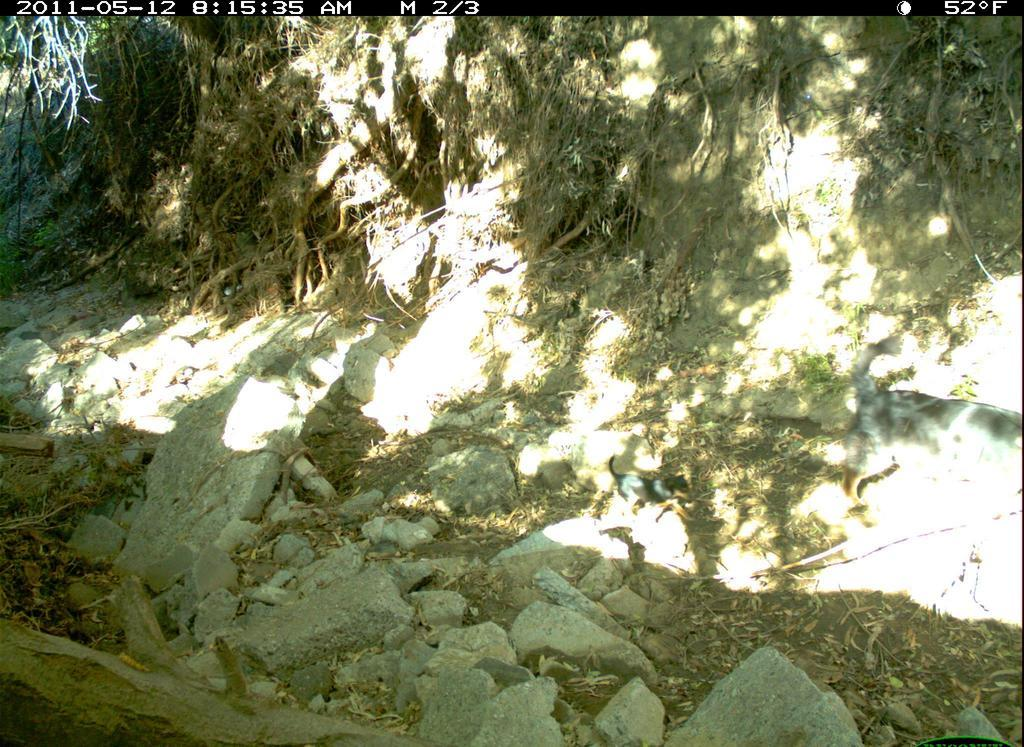dog: (591, 442, 735, 571)
